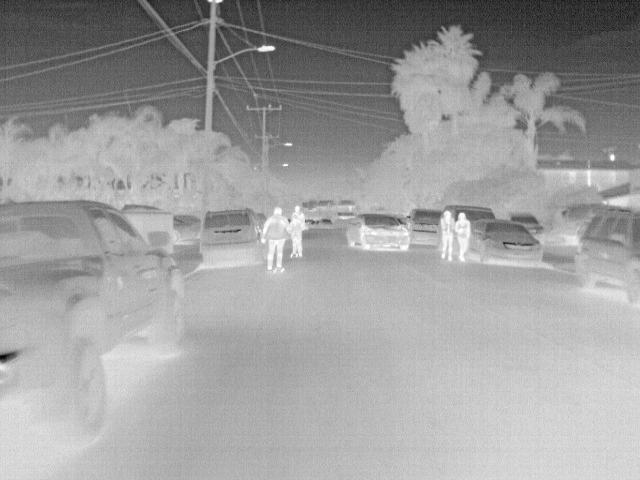car: (1, 199, 188, 444), (573, 210, 638, 305), (198, 211, 268, 270), (466, 222, 546, 266), (348, 215, 414, 250), (406, 208, 444, 250), (172, 212, 204, 246), (445, 206, 498, 225), (510, 214, 547, 238), (316, 218, 335, 230)
person: (260, 206, 292, 274), (440, 207, 458, 260), (455, 211, 472, 261), (289, 214, 307, 258), (290, 205, 306, 230)
